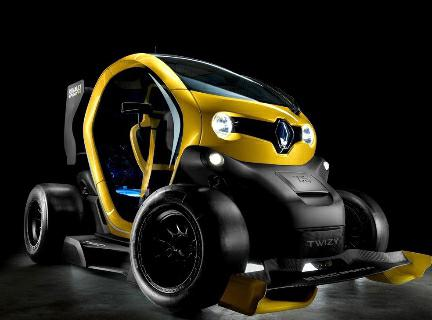雷诺-Twizy: (17, 39, 427, 320)
